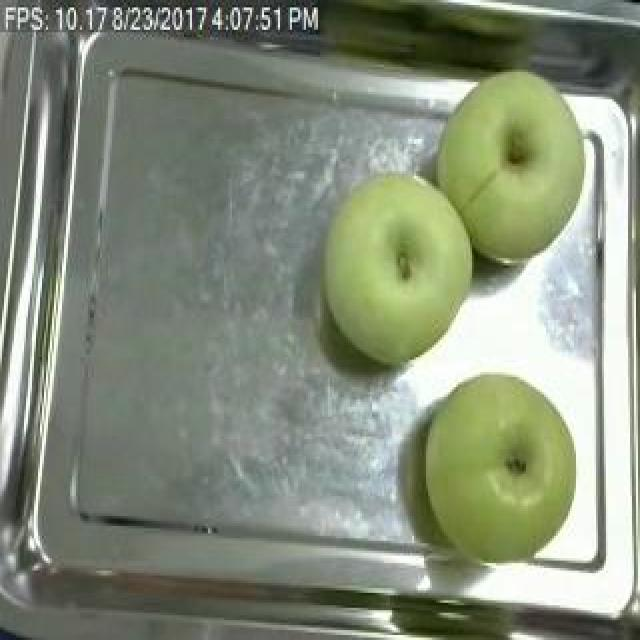Rotten Apple: (428, 66, 584, 266), (327, 168, 477, 374), (428, 366, 568, 567)
